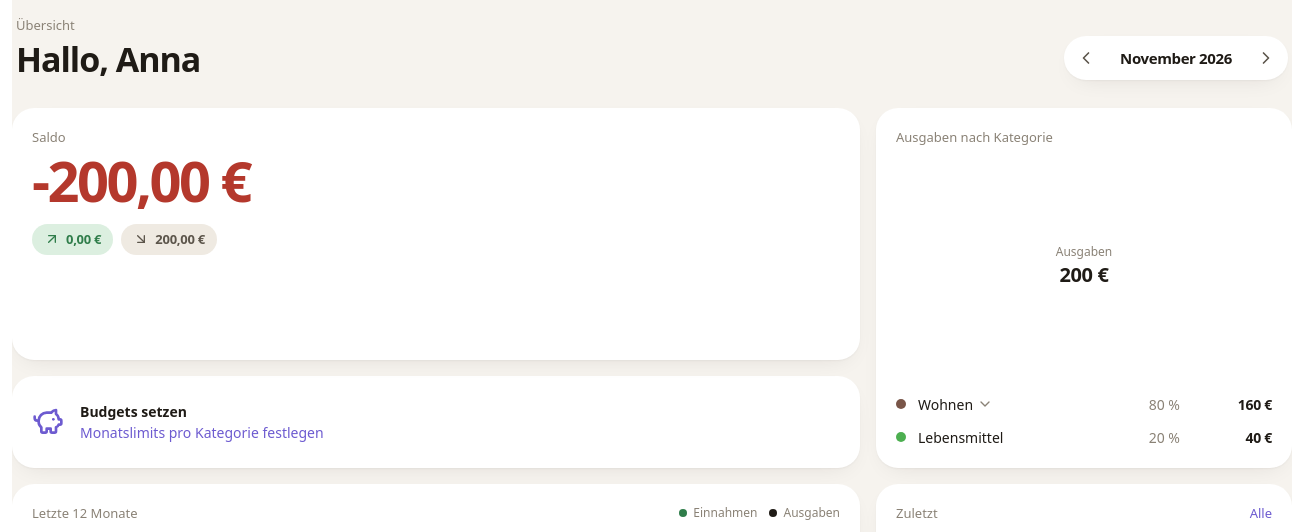
it: tapping a category with subcategory spending expands its breakdown inline
Later steps or results of the test are not shown.
Click the button "Wohnen 80 % 160 €".
click(946, 404)  # box [890,392,1278,416]
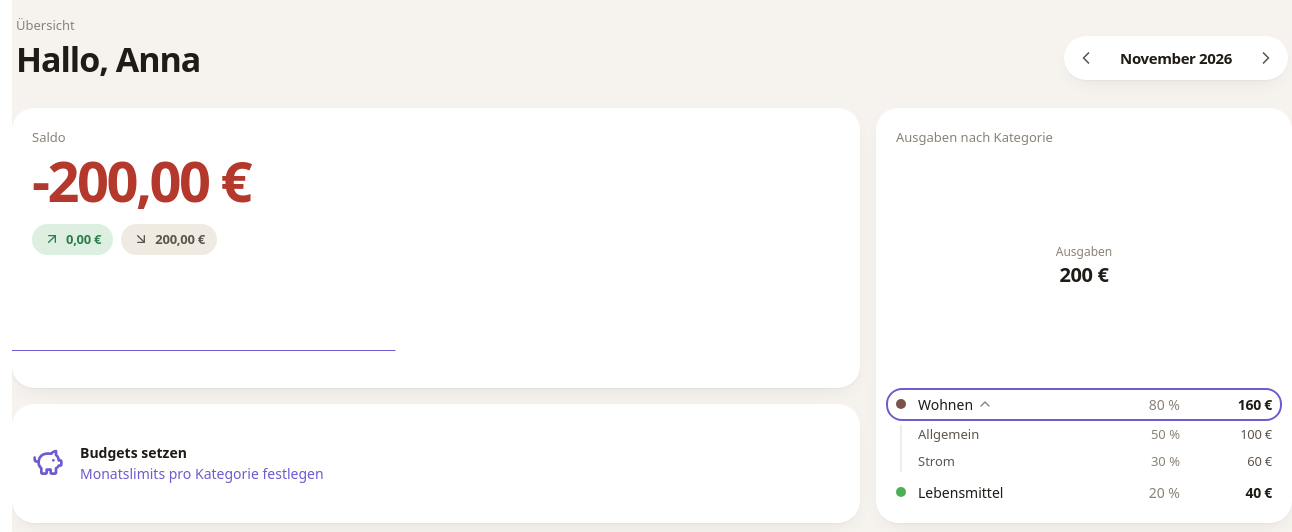
Check: the button "Wohnen 80 % 160 €" is expanded, box [890,392,1278,416]
